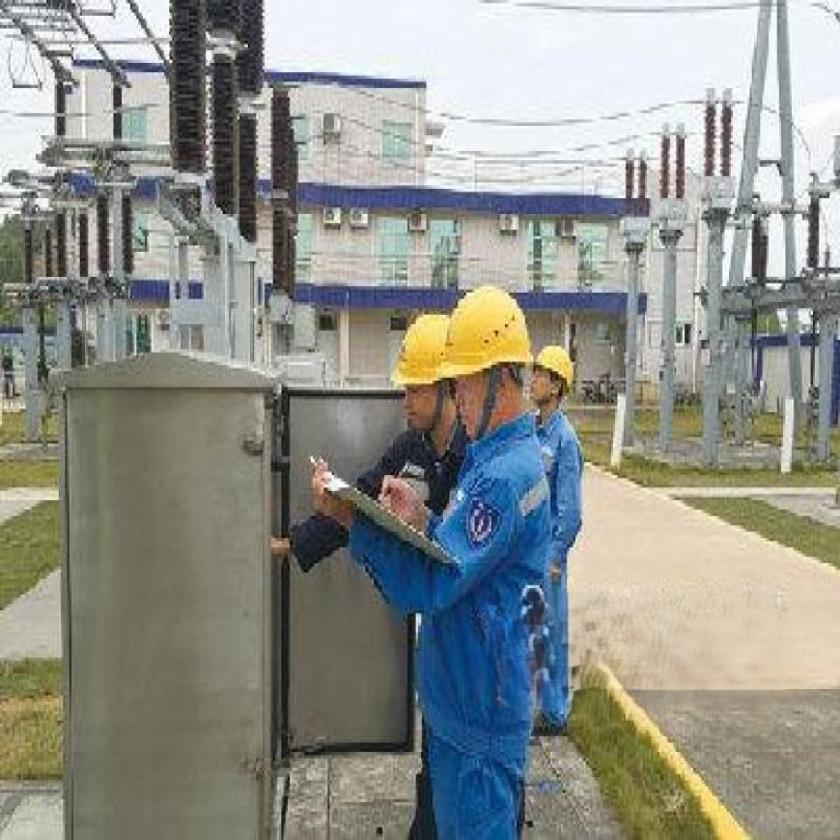Con_casco: (453, 275, 541, 420), (398, 296, 452, 433)
